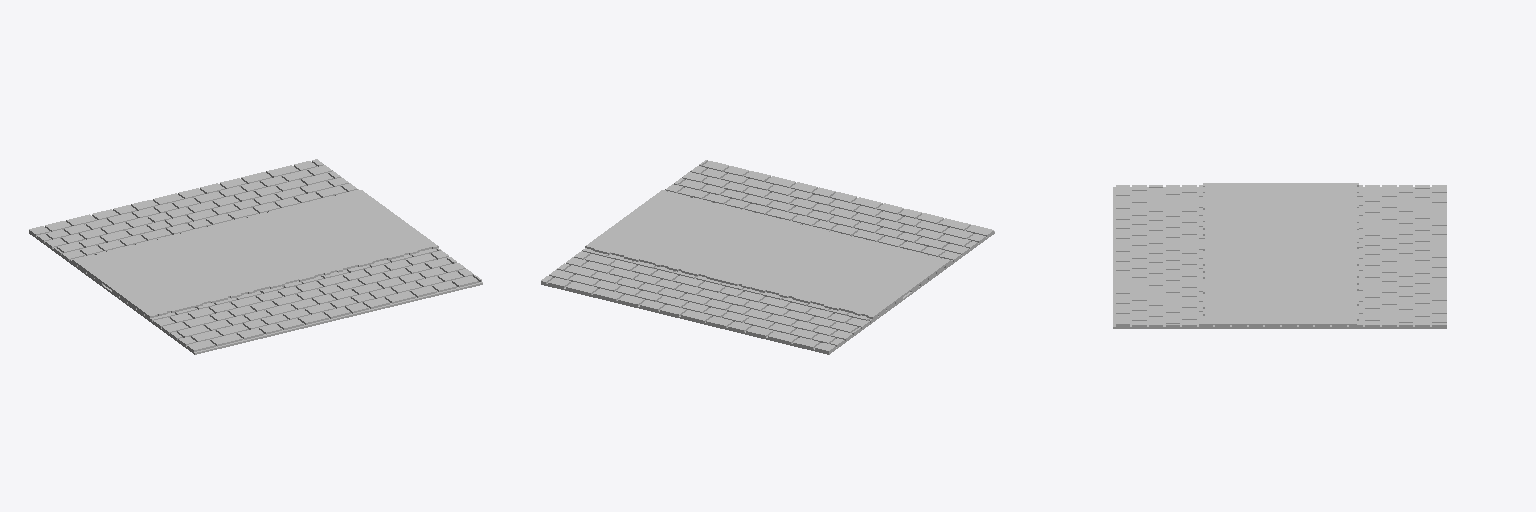
The model's file is Floor.obj.
3 renders of one model, left to right at view 1: azimuth 30°, elevation 25°; view 2: azimuth 150°, elevation 25°; view 3: azimuth 270°, elevation 25°, orthographic.
Visible parts, largest first — view 1: object 1; view 2: object 1; view 3: object 1.
Part boxes in pixels (x1,y1,x2,y2): object 1: (29, 159, 482, 354); object 1: (541, 160, 994, 354); object 1: (1113, 183, 1446, 328).
Bounding box in the file's own units: 16 × 0.3 × 16.